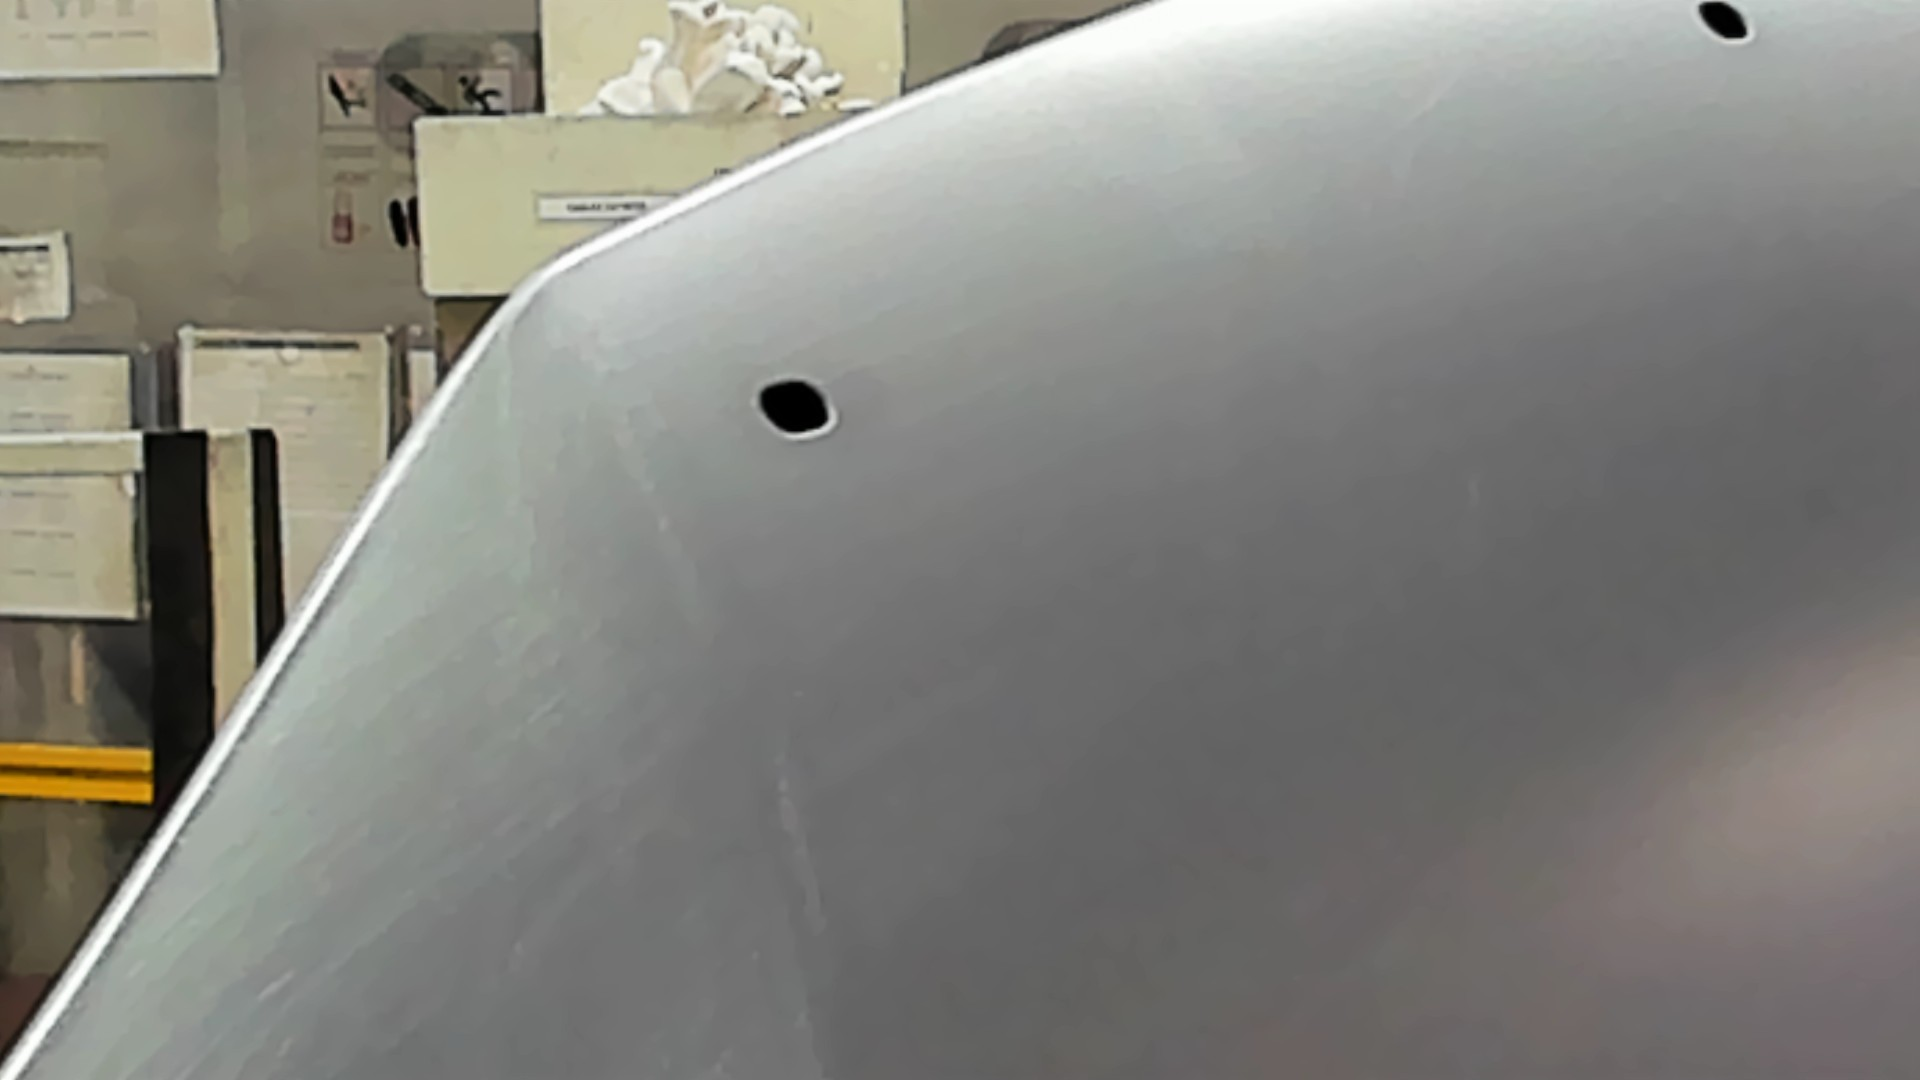amorfo: (746, 369, 841, 442), (1687, 1, 1764, 47)
capo: (964, 100, 1920, 1080)
